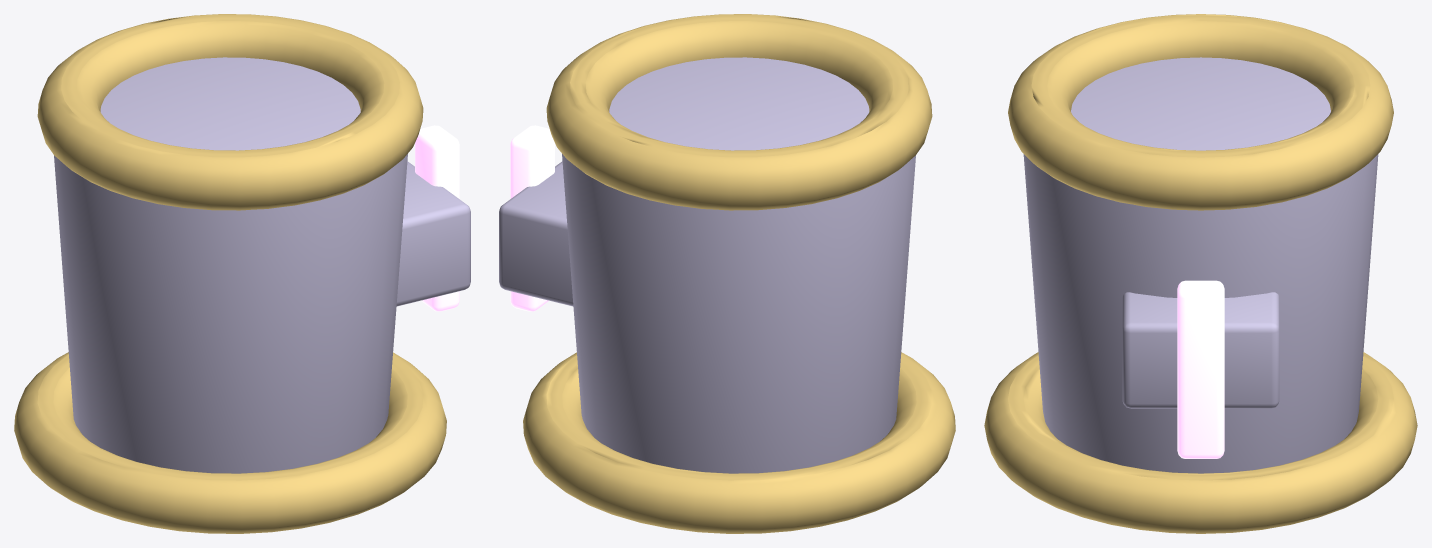
Rendered from sylas_shackleL.glb.
3 renders of one model, left to right at view 1: azimuth 30°, elevation 25°; view 2: azimuth 150°, elevation 25°; view 3: azimuth 270°, elevation 25°, orthographic.
Visible parts, largest first — view 1: sylas_shackleL; view 2: sylas_shackleL; view 3: sylas_shackleL.
Boxes of the visible parts, x1,y1,x2,y2 form: sylas_shackleL: (14, 14, 470, 533); sylas_shackleL: (499, 14, 955, 533); sylas_shackleL: (984, 14, 1417, 533).
Size of the model in its own units: 0.3 by 0.2583 by 0.276.
